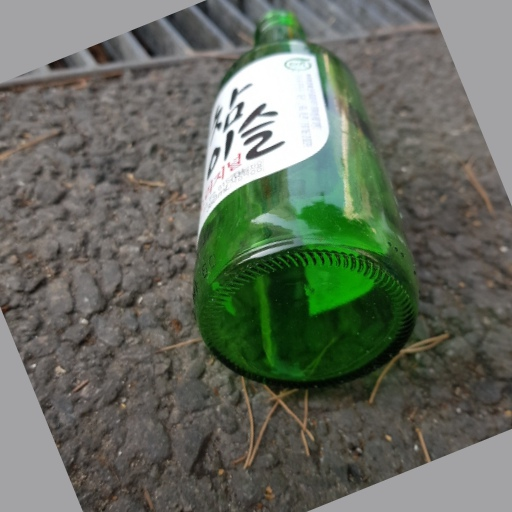Glass_0: (192, 6, 418, 386)
